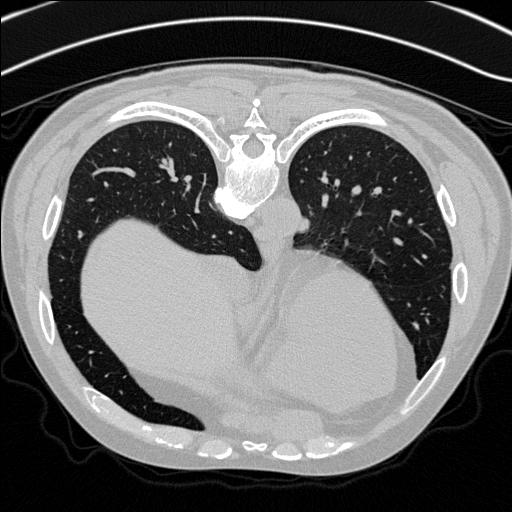nodule: (294, 218, 312, 236)
